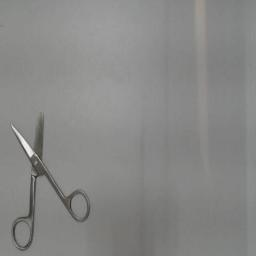Dressing Scissors: (8, 104, 94, 252)
